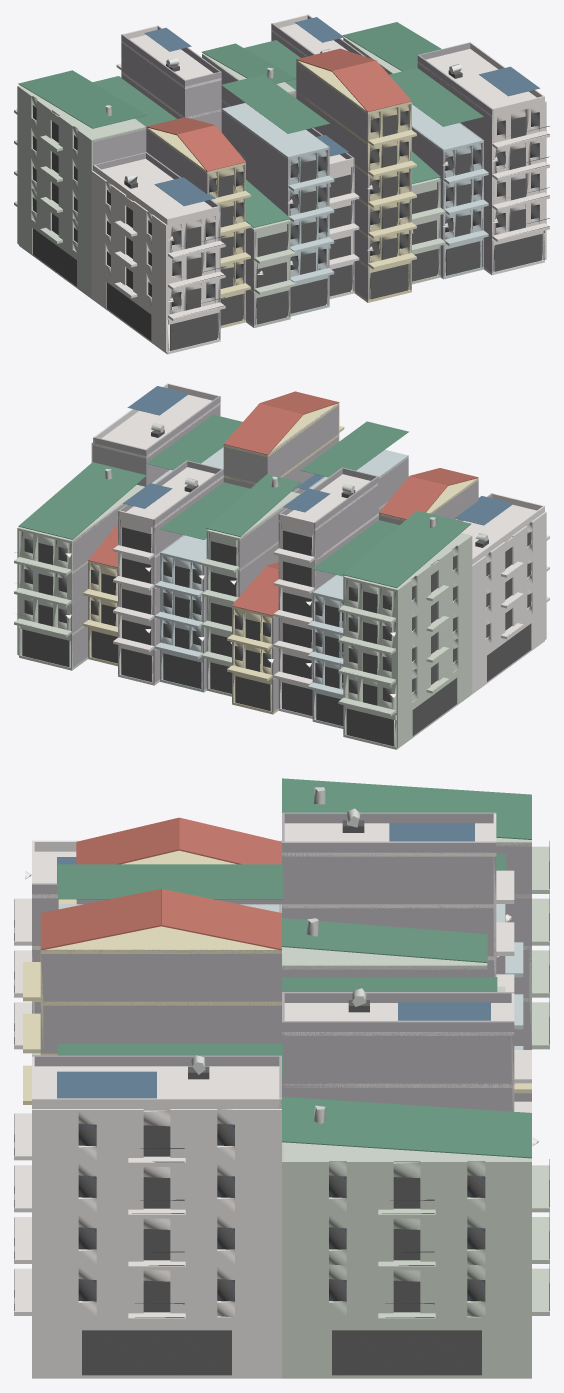
File: day-nha-ong-ha-noi.glb
3 views of the same model, one above another, from view 1: azimuth 30°, elevation 25°; view 2: azimuth 150°, elevation 25°; view 3: azimuth 270°, elevation 25° (orthographic). The views are drawn at different scales.
Parts seen in each view (by area): view 1: Merged_Facade_Blue_Mat_Facade_Blue_0; view 2: Merged_Facade_Blue_Mat_Facade_Blue_0; view 3: Merged_Facade_Blue_Mat_Facade_Blue_0.
Part boxes in pixels (x1,y1,x2,y2): Merged_Facade_Blue_Mat_Facade_Blue_0: (14,14,549,354); Merged_Facade_Blue_Mat_Facade_Blue_0: (14,383,549,749); Merged_Facade_Blue_Mat_Facade_Blue_0: (14,778,549,1378).
Size of the model in its own units: 1 by 0.5009 by 0.7026.
Materials: 1 (1 with a texture image).
